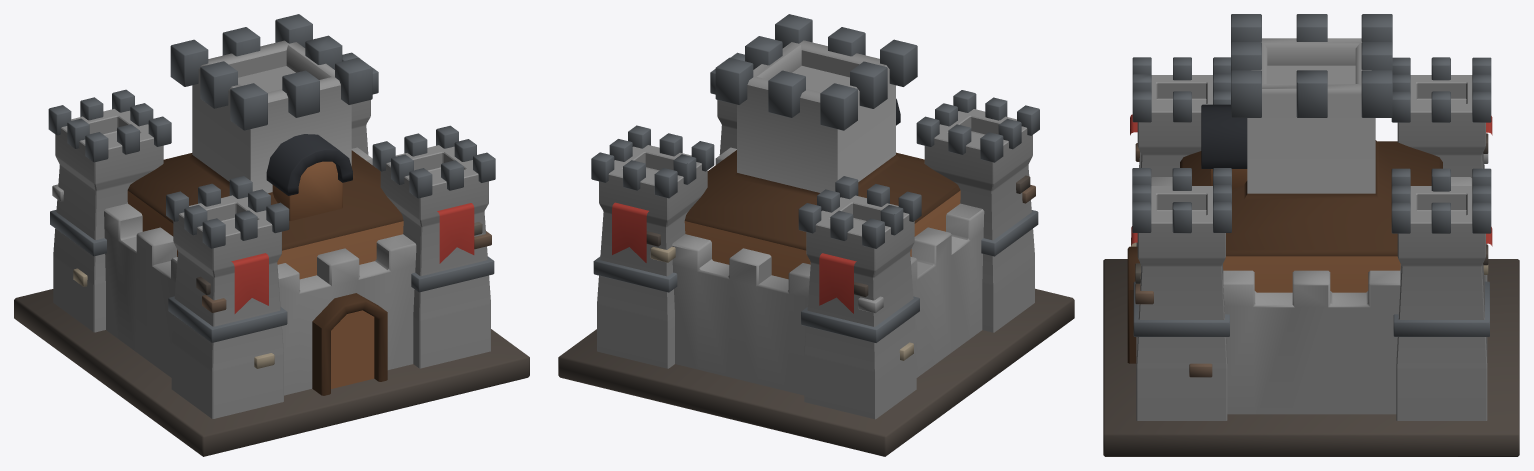
The model's file is Castle.fbx.
The picture shows the model from 3 angles, left to right: view 1: azimuth 30°, elevation 25°; view 2: azimuth 150°, elevation 25°; view 3: azimuth 270°, elevation 25°; orthographic projection. The views are drawn at different scales.
Parts seen in each view (by area): view 1: Cube.1385, Cube.1424, Cube.1395, Cube.1386, Cube.1404, Cube.1422, Cube.1428, Cube.1423, Cube.1425, Cube.1426, Cube.1430, Cube.1429 (+16 smaller); view 2: Cube.1385, Cube.1424, Cube.1422, Cube.1404, Cube.1413, Cube.1395, Cube.1428, Cube.1426, Cube.1425, Cube.1427, Cube.1408, Cube.1414 (+13 smaller); view 3: Cube.1385, Cube.1424, Cube.1428, Cube.1413, Cube.1386, Cube.1404, Cube.1395, Cube.1426, Cube.1425, Cube.1430, Cube.1427, Cube.1417 (+14 smaller).
Part boxes in pixels (x1,y1,x2,y2): Cube.1385: [127, 40, 403, 279]; Cube.1424: [14, 289, 529, 456]; Cube.1395: [171, 195, 283, 418]; Cube.1386: [380, 145, 490, 368]; Cube.1404: [53, 109, 163, 332]; Cube.1422: [277, 234, 416, 395]; Cube.1428: [104, 147, 372, 377]; Cube.1423: [312, 293, 387, 395]; Cube.1425: [230, 57, 372, 130]; Cube.1426: [170, 14, 312, 86]; Cube.1430: [266, 134, 352, 195]; Cube.1429: [272, 161, 342, 220]; Cube.1385: [684, 40, 960, 279]; Cube.1424: [558, 288, 1074, 456]; Cube.1422: [672, 234, 810, 395]; Cube.1404: [804, 195, 916, 419]; Cube.1413: [597, 145, 707, 368]; Cube.1395: [924, 109, 1034, 332]; Cube.1428: [715, 147, 984, 377]; Cube.1426: [715, 57, 857, 130]; Cube.1425: [775, 14, 917, 86]; Cube.1427: [745, 36, 887, 108]; Cube.1408: [801, 296, 919, 342]; Cube.1414: [591, 152, 677, 198]; Cube.1385: [1180, 38, 1442, 292]; Cube.1424: [1103, 259, 1519, 456]; Cube.1428: [1223, 270, 1400, 414]; Cube.1413: [1396, 186, 1487, 420]; Cube.1386: [1136, 186, 1227, 420]; Cube.1404: [1397, 75, 1487, 281]; Cube.1395: [1136, 75, 1212, 246]; Cube.1426: [1361, 14, 1392, 117]; Cube.1425: [1231, 14, 1261, 117]; Cube.1430: [1201, 104, 1247, 168]; Cube.1427: [1296, 14, 1327, 117]; Cube.1417: [1393, 281, 1489, 336].
Size of the model in its own units: 162 by 138 by 162.
